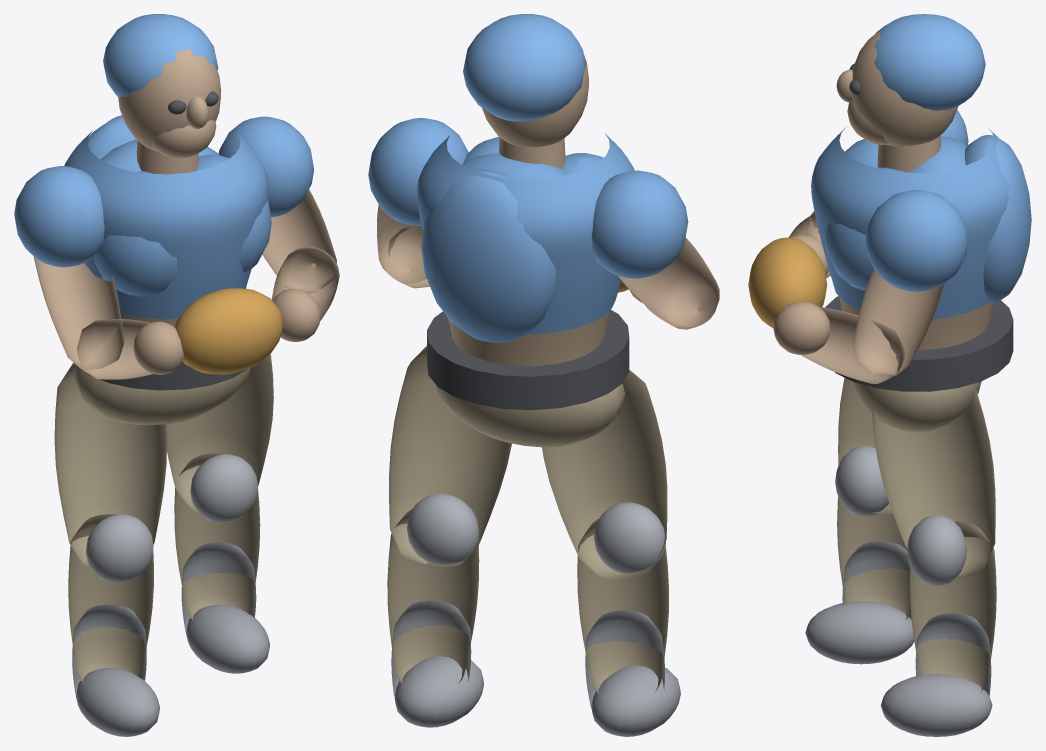
File: civan.glb
3 renders of one model, left to right at view 1: azimuth 30°, elevation 25°; view 2: azimuth 150°, elevation 25°; view 3: azimuth 270°, elevation 25°, orthographic. The views are drawn at different scales.
Visible parts, largest first — view 1: Hull; view 2: Hull; view 3: Hull.
Part boxes in pixels (bbox=[...]): Hull: bbox=[14, 14, 339, 736]; Hull: bbox=[368, 14, 719, 736]; Hull: bbox=[748, 14, 1031, 736].
Bounding box in the file's own units: 0.4343 × 0.937 × 0.3555.
